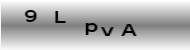9: (24, 9, 38, 23)
A: (120, 23, 138, 38)
L: (52, 10, 67, 24)
p: (83, 22, 98, 37)
v: (100, 26, 116, 37)
